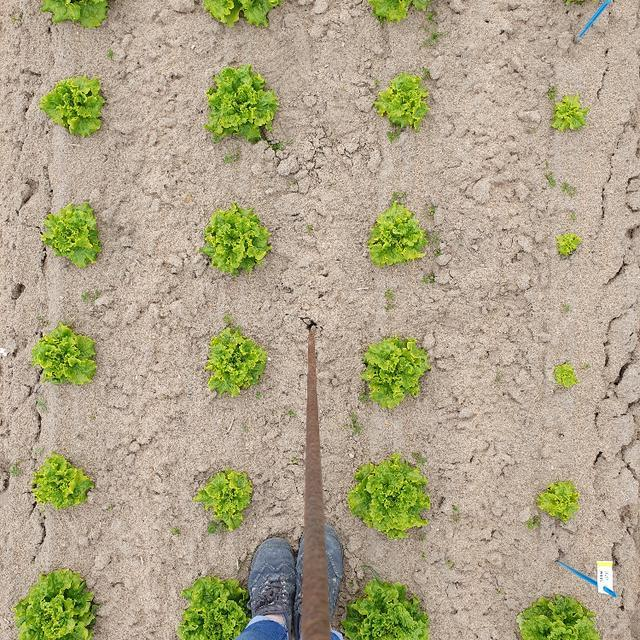Lettuce: (345, 455, 437, 540), (192, 58, 280, 145), (358, 328, 435, 412), (340, 571, 431, 640), (16, 566, 98, 640), (197, 202, 275, 278), (202, 322, 272, 400), (177, 570, 250, 640), (38, 73, 114, 140), (195, 468, 262, 538), (511, 588, 599, 640), (362, 205, 432, 270), (42, 200, 102, 272), (36, 327, 102, 390), (380, 70, 433, 137), (34, 455, 94, 512), (195, 0, 282, 35), (535, 475, 580, 525), (42, 0, 115, 30), (364, 0, 428, 28), (552, 96, 590, 136), (555, 233, 582, 265), (552, 360, 578, 393)
